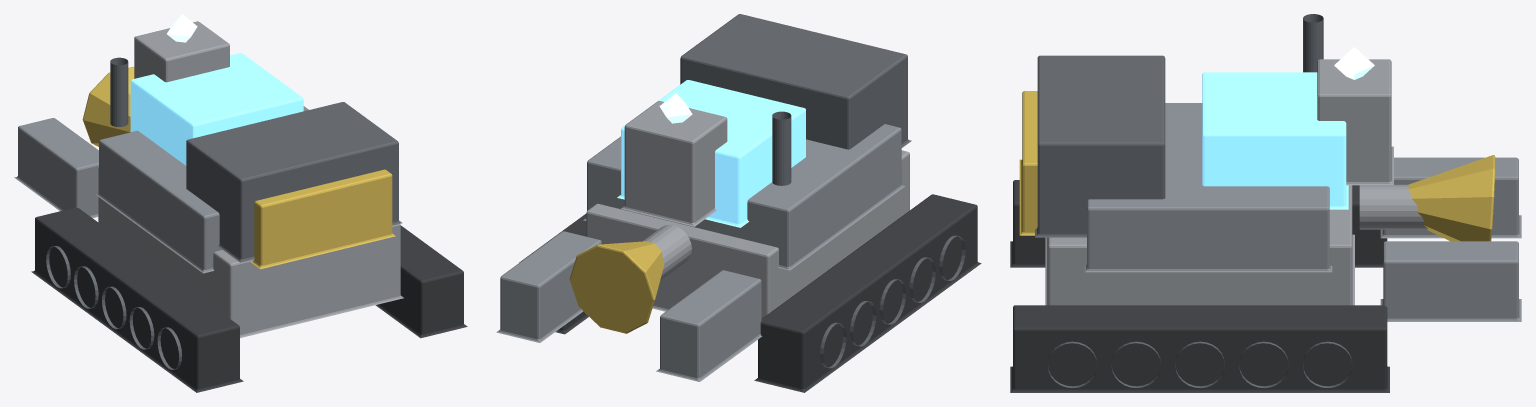
File: harvester.glb
The picture shows the model from 3 angles, left to right: view 1: azimuth 30°, elevation 25°; view 2: azimuth 150°, elevation 25°; view 3: azimuth 270°, elevation 25°; orthographic projection. The views are drawn at different scales.
Parts seen in each view (by area): view 1: harvester_Static_Rubber, CargoHopper, Chassis, harvester_Static_Glass, Hull, CargoGate, harvester_Static_Armor, harvester_Static_Steel, Drill, harvester_Static_DarkMetal, FactionBeacon; view 2: harvester_Static_Rubber, CargoHopper, Hull, harvester_Static_Armor, Chassis, harvester_Static_Steel, harvester_Static_Glass, Drill, harvester_Static_DarkMetal, DrillShaft, FactionBeacon; view 3: harvester_Static_Rubber, Hull, CargoHopper, harvester_Static_Glass, harvester_Static_Armor, Chassis, harvester_Static_Steel, Drill, DrillShaft, CargoGate, harvester_Static_DarkMetal, FactionBeacon.
Boxes of the visible parts, x1=… form: harvester_Static_Rubber: x1=31, y1=207, x2=467, y2=392; CargoHopper: x1=186, y1=102, x2=402, y2=262; Chassis: x1=98, y1=168, x2=403, y2=337; harvester_Static_Glass: x1=130, y1=53, x2=303, y2=165; Hull: x1=95, y1=106, x2=308, y2=273; CargoGate: x1=250, y1=169, x2=395, y2=269; harvester_Static_Armor: x1=14, y1=118, x2=98, y2=218; harvester_Static_Steel: x1=134, y1=21, x2=229, y2=82; Drill: x1=82, y1=67, x2=134, y2=146; harvester_Static_DarkMetal: x1=110, y1=57, x2=128, y2=126; FactionBeacon: x1=167, y1=14, x2=197, y2=42; harvester_Static_Rubber: x1=519, y1=194, x2=981, y2=392; CargoHopper: x1=680, y1=14, x2=911, y2=149; Hull: x1=583, y1=124, x2=905, y2=270; harvester_Static_Armor: x1=496, y1=231, x2=762, y2=381; Chassis: x1=586, y1=150, x2=909, y2=318; harvester_Static_Steel: x1=621, y1=101, x2=727, y2=226; harvester_Static_Glass: x1=617, y1=80, x2=805, y2=227; Drill: x1=569, y1=241, x2=664, y2=333; harvester_Static_DarkMetal: x1=772, y1=111, x2=791, y2=185; DrillShaft: x1=642, y1=225, x2=691, y2=279; FactionBeacon: x1=659, y1=93, x2=692, y2=123; harvester_Static_Rubber: x1=1010, y1=180, x2=1389, y2=392; Hull: x1=1084, y1=103, x2=1332, y2=272; CargoHopper: x1=1035, y1=55, x2=1165, y2=237; harvester_Static_Glass: x1=1202, y1=72, x2=1348, y2=209; harvester_Static_Armor: x1=1380, y1=157, x2=1521, y2=321; Chassis: x1=1045, y1=185, x2=1354, y2=305; harvester_Static_Steel: x1=1317, y1=59, x2=1393, y2=185; Drill: x1=1407, y1=155, x2=1495, y2=241; DrillShaft: x1=1359, y1=184, x2=1427, y2=229; CargoGate: x1=1019, y1=91, x2=1037, y2=235; harvester_Static_DarkMetal: x1=1303, y1=14, x2=1323, y2=72; FactionBeacon: x1=1334, y1=47, x2=1374, y2=79.
Bounding box in the file's own units: 1.76 × 1.45 × 2.48.
